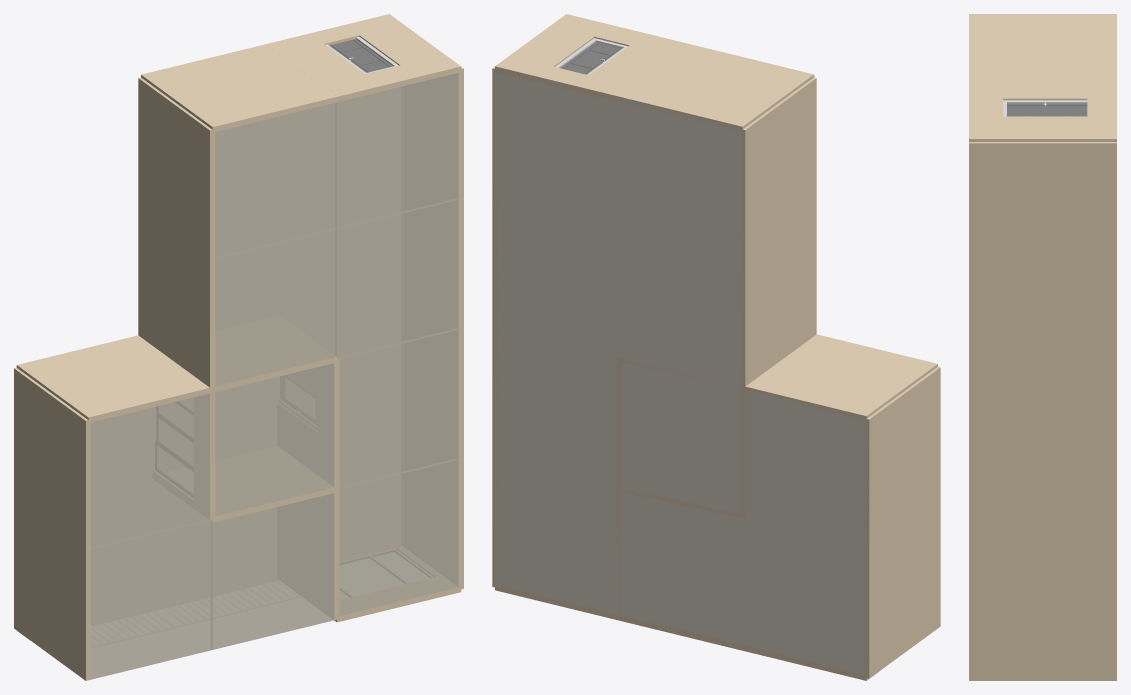
File: Neighbour02.gltf
The picture shows the model from 3 angles, left to right: view 1: azimuth 30°, elevation 25°; view 2: azimuth 150°, elevation 25°; view 3: azimuth 270°, elevation 25°; orthographic projection. The views are drawn at different scales.
Parts seen in each view (by area): view 1: ceiling_3, ceiling_7, ceiling, ceiling_4, ceiling_6, ceiling_9, ceiling_8, ceiling_2, ceiling_5, ceiling_1, wall_8, wall_3 (+16 smaller); view 2: floor_6, floor_9, floor_7, floor_4, floor_5, floor_3, floor_8, floor_2, floor, floor_1, wall_3, wall_8 (+12 smaller); view 3: wall_7, wall, wall_2, wall_6, wall_9, SIP_1, Door, DoorFrame, SIP.
Part boxes in pixels (box(x1,y1,x2,y2)): ceiling_3: box(91, 520, 212, 679); ceiling_7: box(337, 200, 458, 359); ceiling: box(212, 493, 334, 649); ceiling_4: box(339, 330, 458, 488); ceiling_6: box(215, 229, 336, 386); ceiling_9: box(215, 102, 336, 259); ceiling_8: box(337, 73, 458, 229); ceiling_2: box(339, 460, 458, 615); ceiling_5: box(91, 393, 209, 549); ceiling_1: box(215, 363, 334, 516); wall_8: box(138, 77, 215, 260); wall_3: box(14, 368, 90, 550); floor_6: box(618, 229, 742, 388); floor_9: box(618, 99, 742, 258); floor_7: box(495, 199, 618, 358); floor_4: box(495, 329, 616, 487); floor_5: box(745, 389, 866, 548); floor_3: box(742, 518, 866, 674); floor_8: box(495, 72, 618, 228); floor_2: box(495, 458, 618, 614); floor: box(618, 488, 742, 644); floor_1: box(621, 359, 739, 517); wall_3: box(864, 366, 940, 548); wall_8: box(740, 77, 816, 259); wall_7: box(969, 142, 1116, 277); wall: box(969, 545, 1116, 679); wall_2: box(969, 411, 1116, 545); wall_6: box(969, 277, 1116, 411); wall_9: box(969, 14, 1116, 76); SIP_1: box(969, 76, 1116, 141); Door: box(1007, 103, 1087, 116); DoorFrame: box(1003, 100, 1087, 116); SIP: box(969, 679, 1116, 680).
Size of the model in its own units: 10.65 by 14.15 by 3.5.
